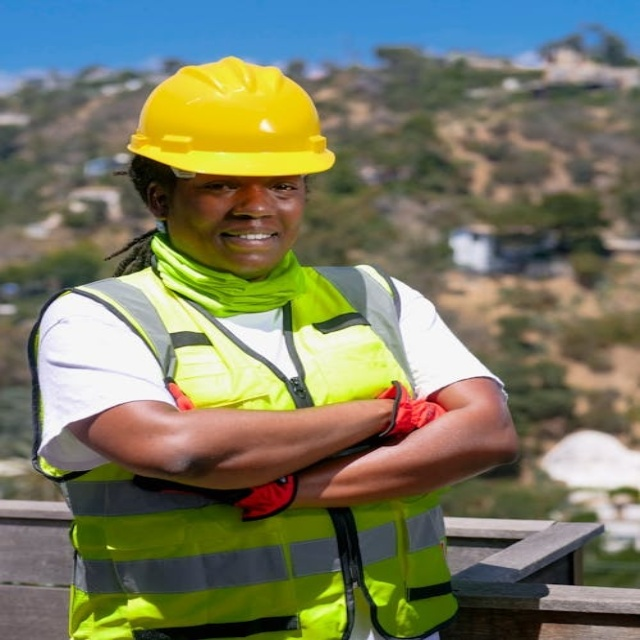Guantes: (373, 381, 448, 442), (232, 474, 296, 521)
Sin_gafas: (191, 174, 305, 200)
Sin_mascara: (207, 218, 288, 257)
